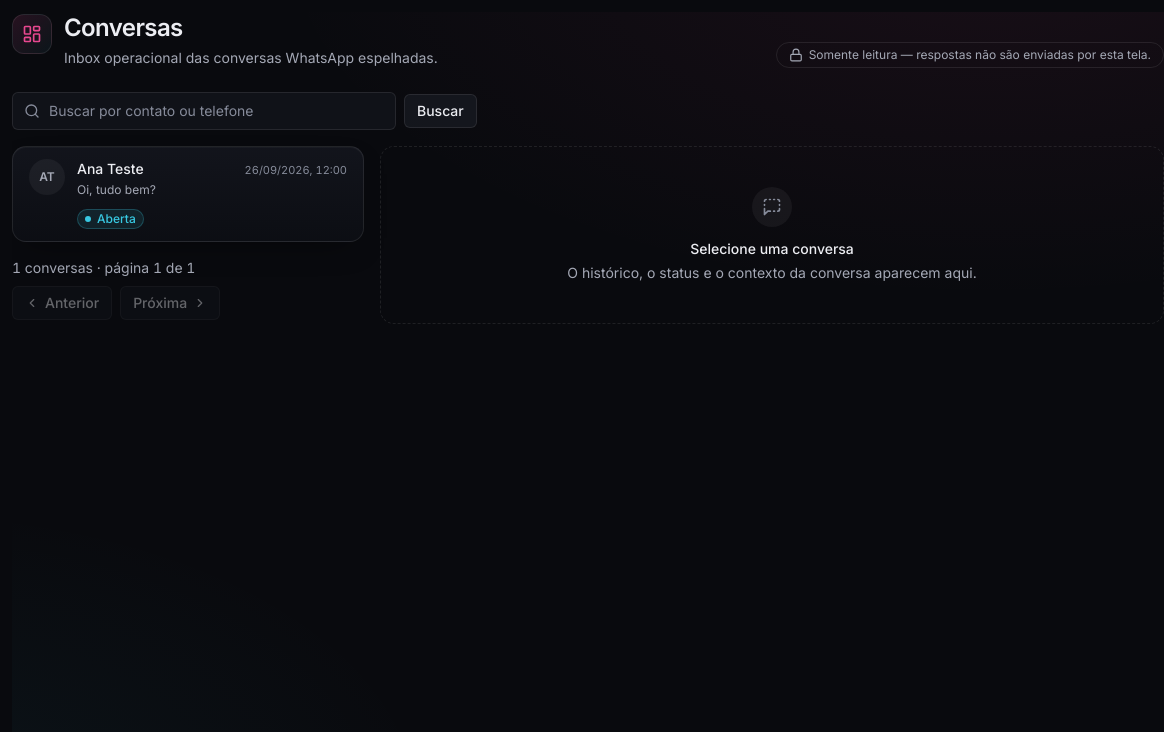
Test: ConversationsPage › lista conversas e abre a thread somente leitura
The width and height of the screenshot is (1164, 732).
Step 1. Click the text "Oi, tudo bem?" → (116, 190), box top-left (77, 182), bottom-right (156, 197)
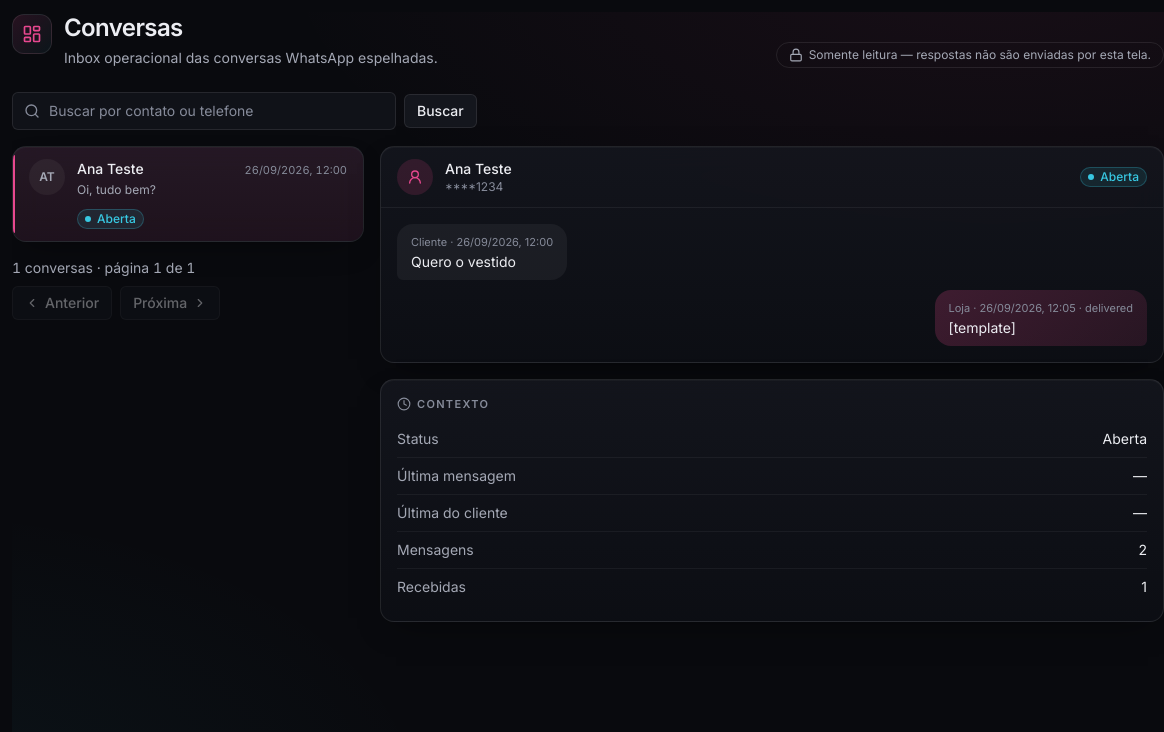
Check: the text "Quero o vestido" is shown, box top-left (411, 253), bottom-right (516, 270)
Check: the text "[template]" is shown, box top-left (948, 319), bottom-right (1016, 336)
Check: the text "Cliente · 26/09/2026, 12:00" is shown, box top-left (411, 232), bottom-right (553, 252)
